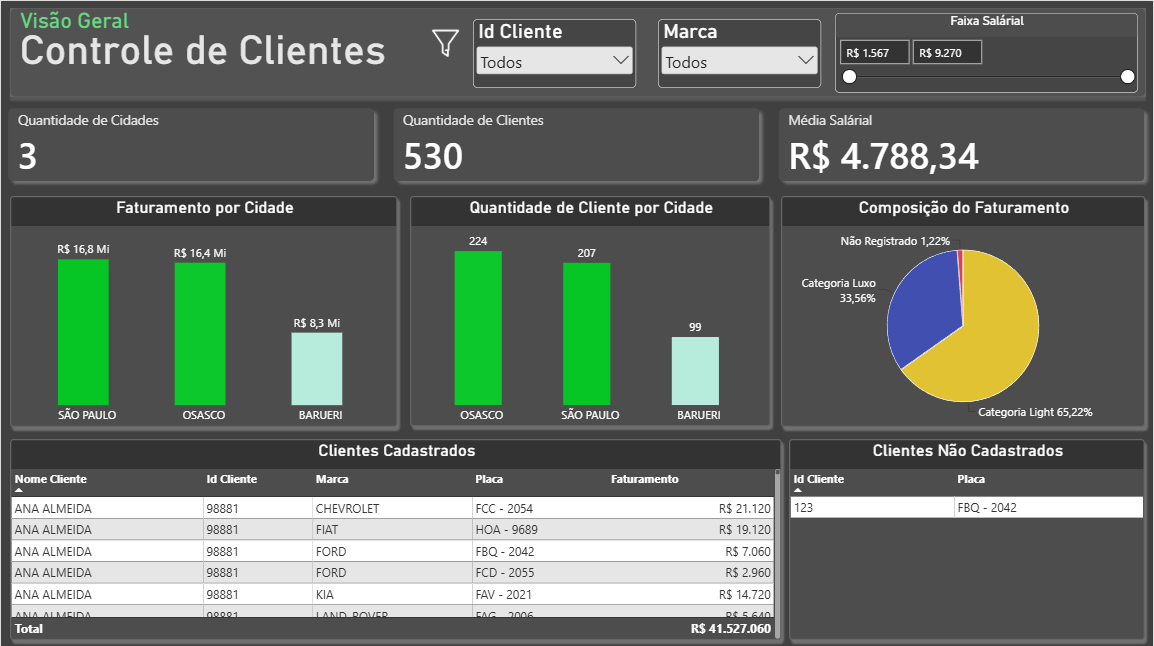

This screenshot's page, from the dashboard's own definition file:
{"tool":"powerbi","page":{"name":"Relatório de Clientes","canvas":[1920,1080],"ordinal":1},"visuals":[{"type":"shape","box":[14.5,10.9,1892.9,148.4],"z":0},{"type":"textbox","title":"Controle de Clientes","box":[31.2,41.2,651.2,80],"z":1000},{"type":"textbox","title":"Visão Geral","box":[31.2,11.2,498.5,85.4],"z":2000},{"type":"cardVisual","fields":{"Data":["medidas.md_qnt_cidades","medidas.md_qnt_cliente","medidas.md_media_salarial"]},"box":[0,166.7,1920,146.7],"z":3000},{"type":"image","box":[695,28.8,91.7,81.7],"z":4000},{"type":"donutChart","title":"Composição do Faturamento","fields":{"Category":["tb_km_gold.Categorias Marca"],"Y":["medidas.md_total_faturamento"]},"box":[1300.8,324.5,606.7,385],"z":8000},{"type":"slicer","title":"a","fields":{"Values":["tb_cliente_gold.id_cliente"]},"box":[786.1,29.3,272,115],"z":9001},{"type":"slicer","title":"a","fields":{"Values":["tb_km_gold.Marca"]},"box":[1094.6,29.3,272,115],"z":9002},{"type":"slicer","title":"Faixa Salárial","fields":{"Values":["tb_cliente_gold.vl_salario"]},"box":[1389.9,20,505.4,133],"z":9003},{"type":"tableEx","title":"Clientes Cadastrados","fields":{"Values":["tb_km_gold.tb_cliente_silver.nm_nome","tb_km_gold.tb_cliente_silver.id_cliente","tb_km_gold.Marca","tb_km_gold.Placa","medidas.md_total_faturamento"]},"box":[14.6,730.2,1286.2,335.2],"z":9004},{"type":"tableEx","title":"Clientes Não Cadastrados","fields":{"Values":["ANTI LEFT JOIN.id_cliente","ANTI LEFT JOIN.cd_placa"]},"box":[1314.1,730.2,593.2,335.2],"z":9006},{"type":"clusteredColumnChart","title":"Faturamento por Cidade","fields":{"Category":["tb_km_gold.tb_cliente_silver.ds_cidade"],"Y":["medidas.md_total_faturamento"]},"box":[14.6,324.5,646.5,384.6],"z":9007},{"type":"clusteredColumnChart","title":"Quantidade de Clientes por Cidade","fields":{"Category":["tb_cliente_gold.ds_cidade"],"Y":["CountNonNull(tb_cliente_gold.id_cliente)"]},"box":[682.3,324.5,601.2,384.4],"z":9008}]}

Visuals, with their boxes in screenshot pixels (x1, y1, x2, y2), scaled from the page's 1920x1080 canvas onto the 1154x646 screenshot:
shape: 9/7/1146/95
"Controle de Clientes" textbox: 19/25/410/72
"Visão Geral" textbox: 19/7/318/58
cardVisual - medidas.md_qnt_cidades x medidas.md_qnt_cliente: 0/100/1153/187
image: 418/17/473/66
"Composição do Faturamento" donutChart: 782/194/1146/424
"a" slicer: 472/18/636/86
"a" slicer: 658/18/821/86
"Faixa Salárial" slicer: 835/12/1139/92
"Clientes Cadastrados" tableEx: 9/437/782/637
"Clientes Não Cadastrados" tableEx: 790/437/1146/637
"Faturamento por Cidade" clusteredColumnChart: 9/194/397/424
"Quantidade de Clientes por Cidade" clusteredColumnChart: 410/194/771/424
